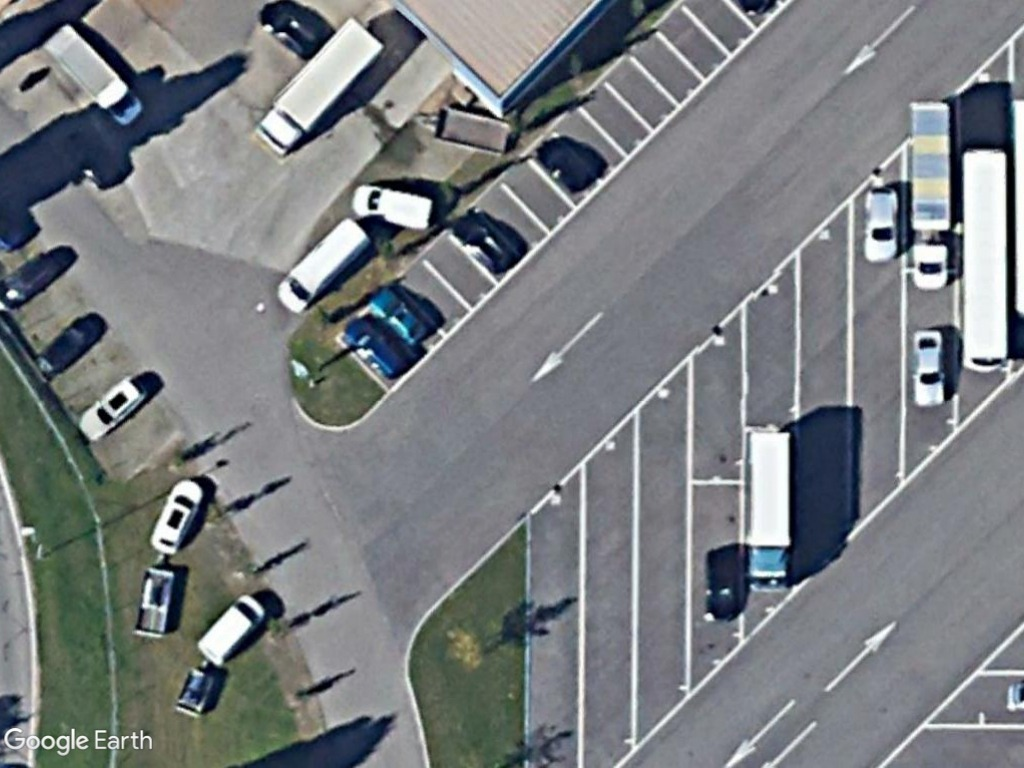car: (146, 471, 207, 556), (76, 373, 149, 443), (911, 324, 950, 412), (862, 181, 901, 267)
longvehicle: (956, 142, 1012, 376), (906, 94, 954, 294)
truck: (252, 11, 389, 160), (38, 20, 147, 133), (745, 423, 795, 599)
van: (274, 214, 370, 315), (194, 587, 266, 667), (348, 182, 435, 233)
